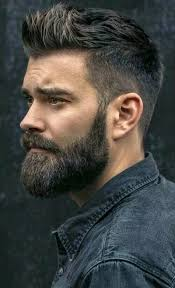b.y: (20, 132, 65, 196)
